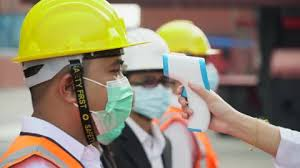Helmet: (8, 2, 128, 59)
Mask: (87, 78, 132, 141)
